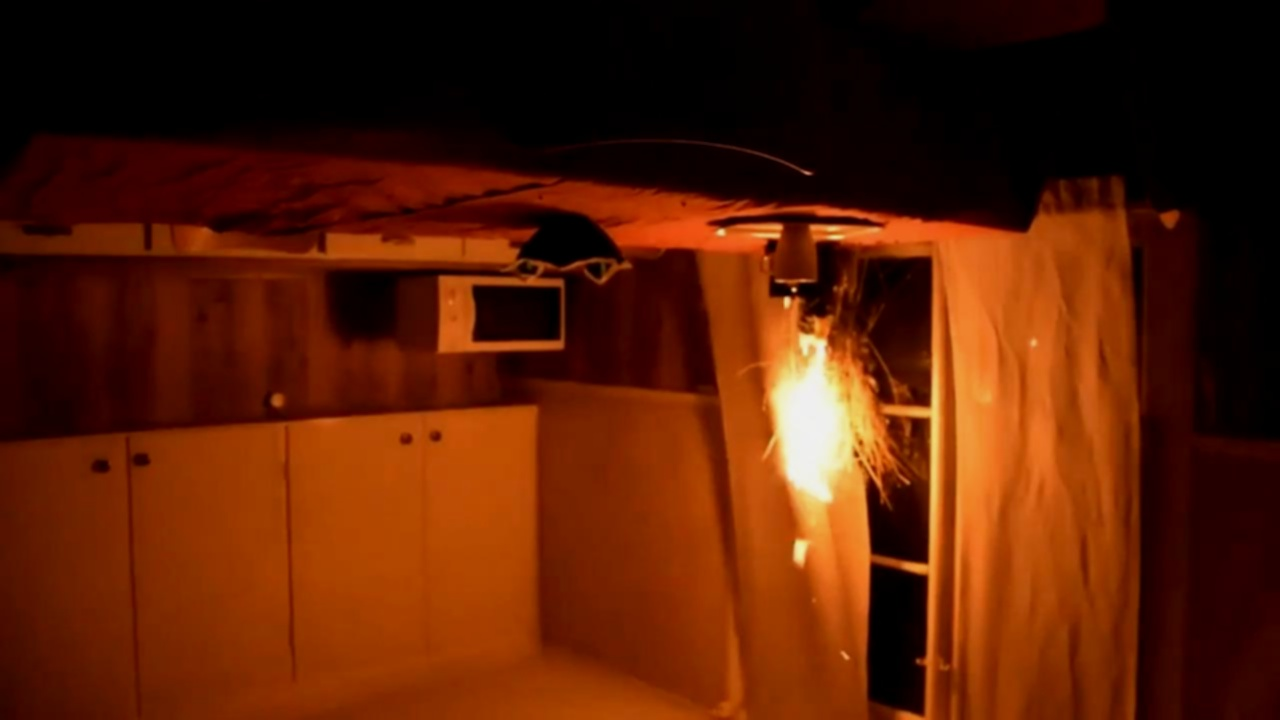fire: (751, 292, 880, 579)
